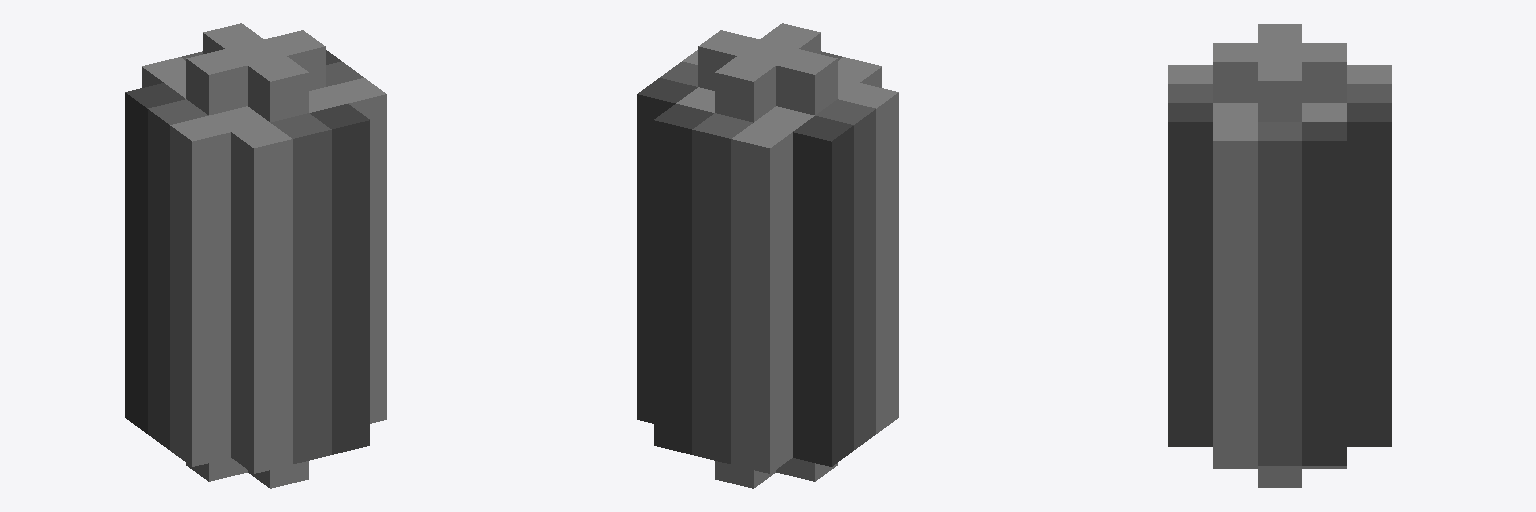
The picture shows the model from 3 angles: view 1: azimuth 30°, elevation 25°; view 2: azimuth 150°, elevation 25°; view 3: azimuth 270°, elevation 25°; orthographic projection.
Visible parts, largest first — view 1: object 1; view 2: object 1; view 3: object 1.
Boxes of the visible parts, x1=… form: object 1: x1=125, y1=23, x2=386, y2=488; object 1: x1=637, y1=23, x2=898, y2=488; object 1: x1=1168, y1=24, x2=1391, y2=487.
Size of the model in its own units: 0.5 by 1 by 0.5.
Materials: 1 (1 with a texture image).